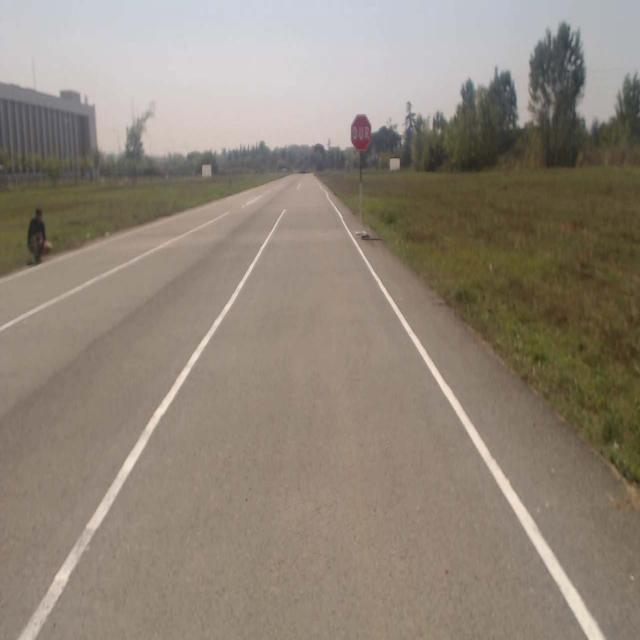dur: (352, 115, 371, 152)
